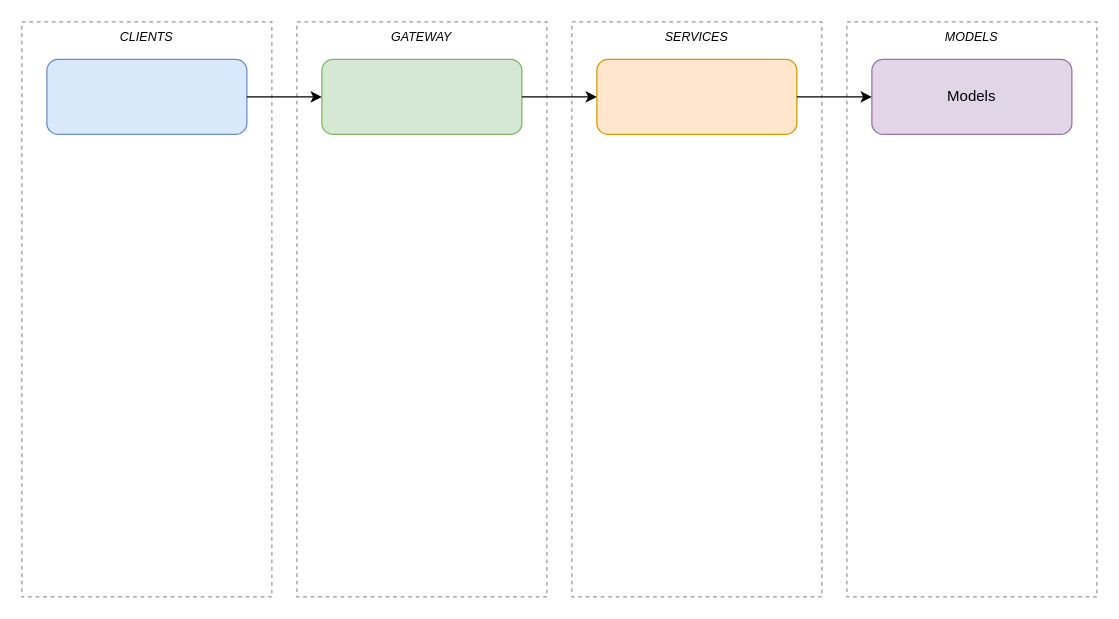
Image size: 1119x619. Some labels were removed from this diagram. The shapes that lost their labels are listed below. From the top down, each one's centre as x and y in pixels, then its label:
At (146,96): "Clinician app / EHR / downstream".
At (421,96): "API gateway (authN/Z, throttle, versioning, audit, request/response policy)".
At (696,96): "Inference services (orchestration, business logic)".
